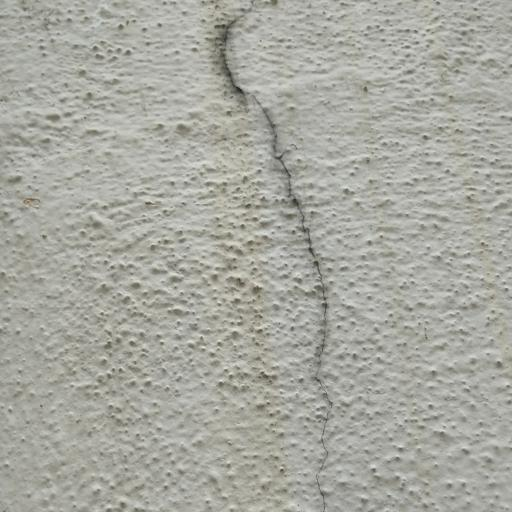minor_crack: (206, 0, 347, 512)
